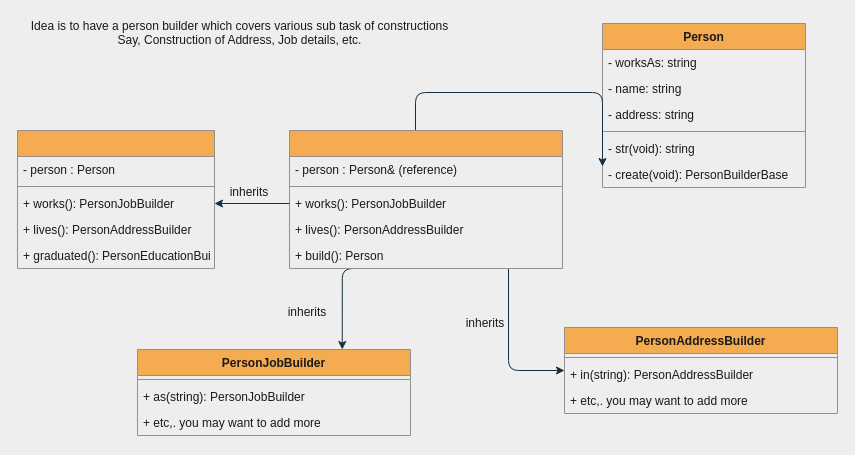
Image size: 855x455. Some labels were removed from this diagram. Each missing label, with the box of its shape:
PersonBuilder: (16, 130, 214, 268)
PersonBuilderBase: (288, 130, 562, 268)
